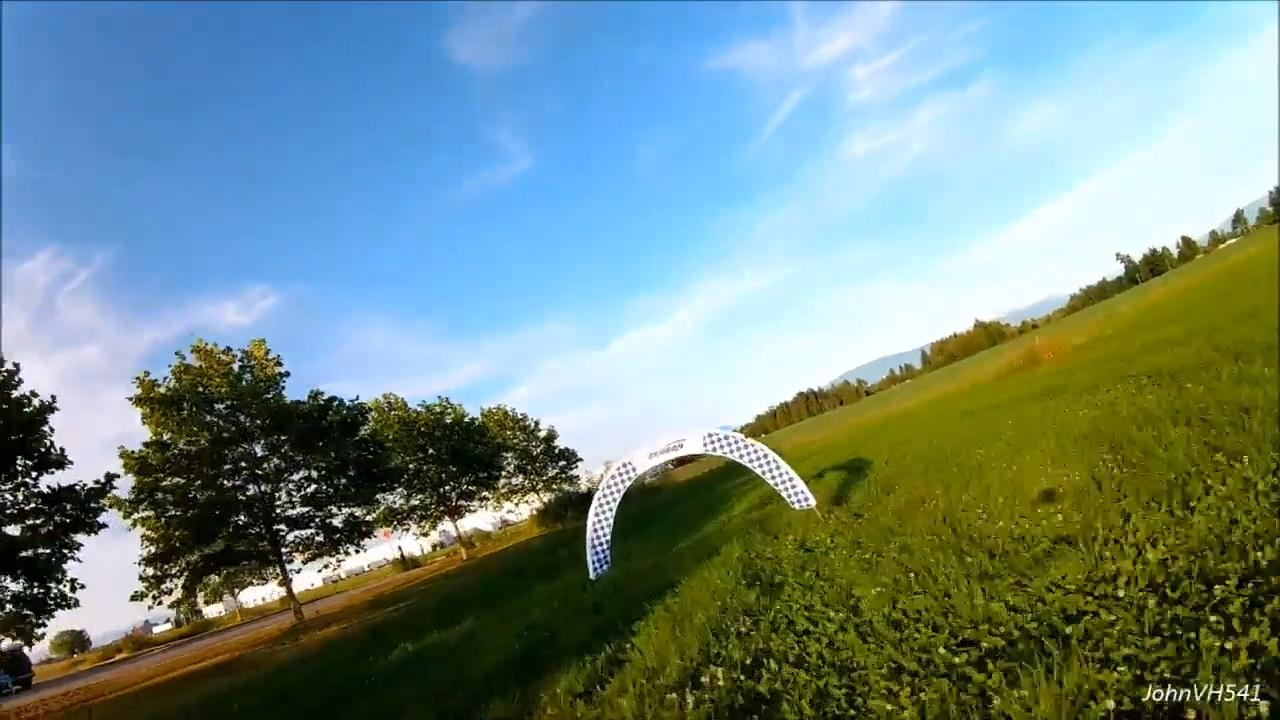gate: (578, 426, 816, 579)
